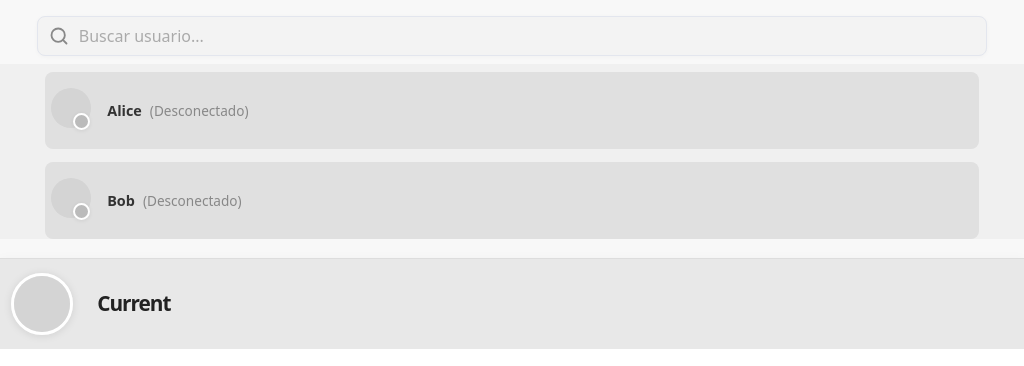
Test: Contacts component › shows not found message if no contact matches search
Step 1. Type "zzz" into the field with placeholder "Buscar usuario..." → (524, 36), box top-left (77, 24), bottom-right (970, 48)
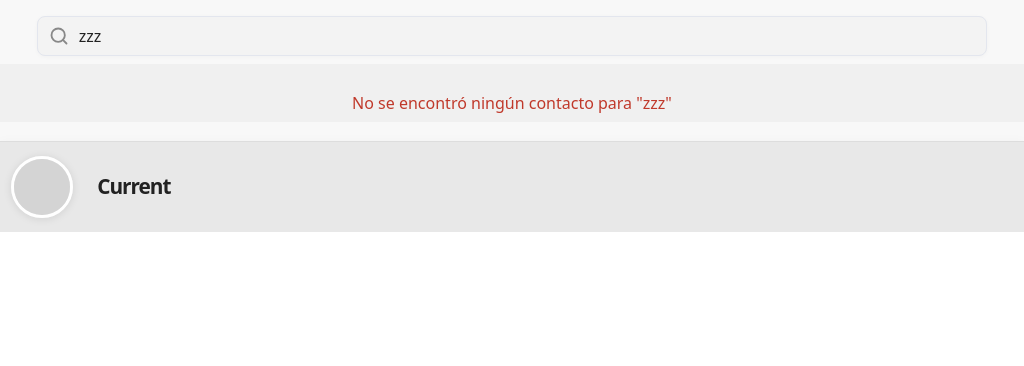
Now the text "No se encontró ningún contacto para \"zzz\"" is shown, box top-left (352, 92), bottom-right (672, 114)
